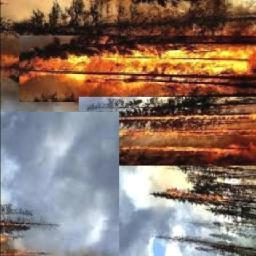Medium fire: (21, 0, 255, 171)
